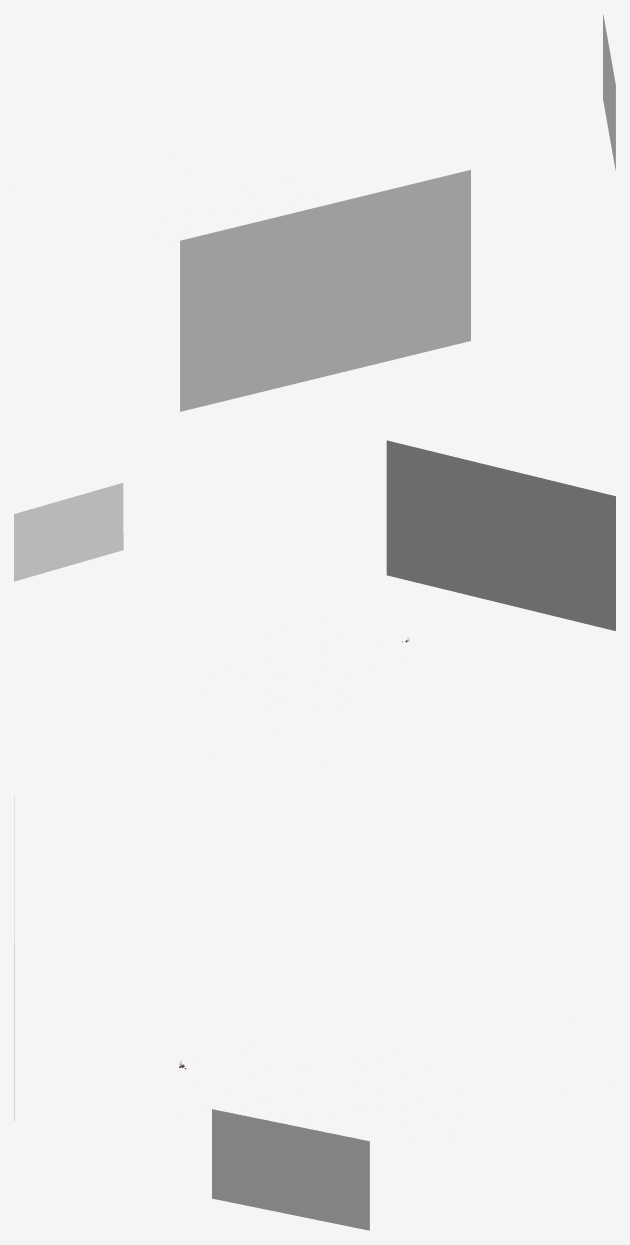
3 views of the same model, one above another, from view 1: azimuth 30°, elevation 25°; view 2: azimuth 150°, elevation 25°; view 3: azimuth 270°, elevation 25° (orthographic). The views are drawn at different scales.
Visible parts, largest first — view 1: display_cube, bigboard.001; view 2: display, bigboard.001; view 3: bigboard_cube.001.
Part boxes in pixels (x1,y1,x2,y2): display_cube: (180, 170, 470, 411); bigboard.001: (603, 14, 615, 169); display: (386, 440, 615, 630); bigboard.001: (14, 483, 123, 581); bigboard_cube.001: (212, 1109, 369, 1230).
Size of what is drawn, in the model's own units: 6534 by 1805 by 5495.
Materials: 5 (1 with a texture image).
